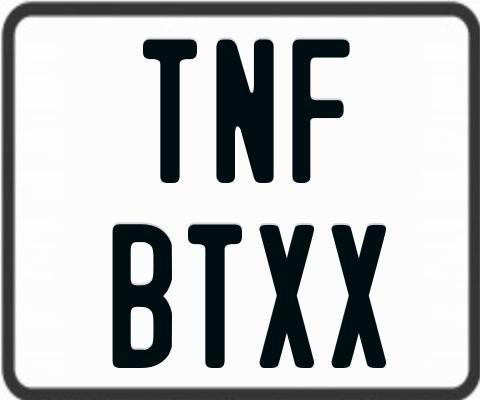B: (111, 223, 174, 367)
F: (292, 36, 353, 182)
N: (215, 37, 275, 186)
T: (141, 36, 197, 181), (187, 224, 242, 371)
X: (332, 222, 391, 365), (259, 225, 313, 371)
